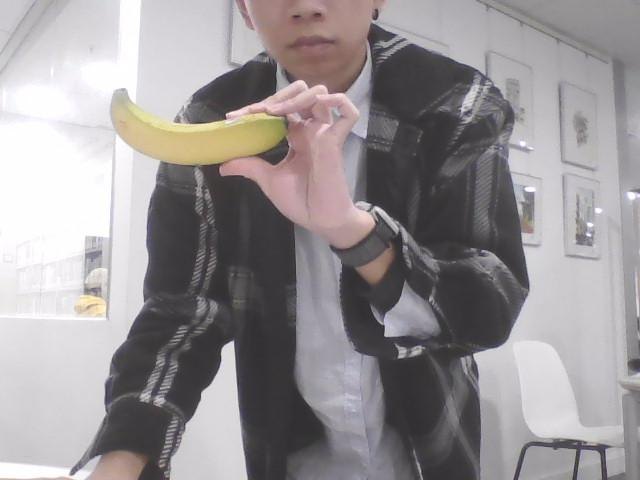banana: (108, 85, 288, 165)
